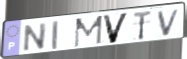I: (51, 20, 60, 51)
M: (73, 14, 104, 49)
N: (22, 22, 49, 53)
T: (132, 9, 153, 41)
V: (101, 12, 131, 45), (156, 7, 182, 37)
